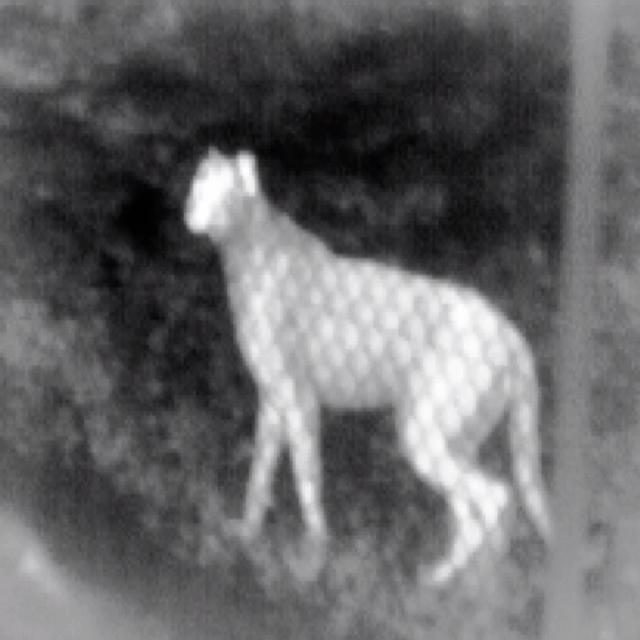cheetah: (186, 144, 551, 591)
